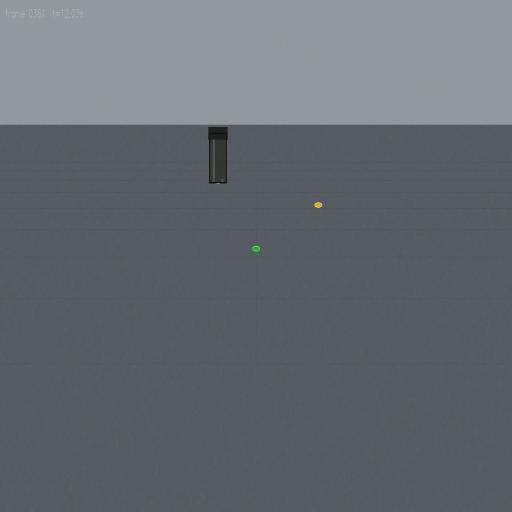bin: (208, 127, 228, 184)
